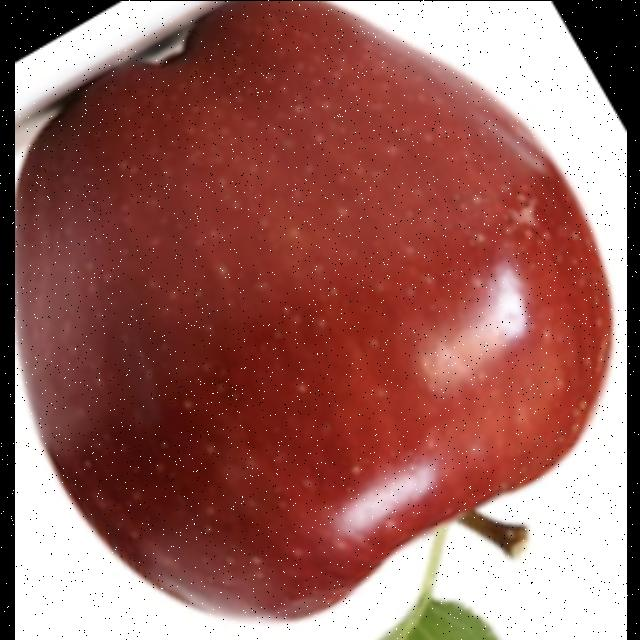Apel Segar: (14, 0, 622, 630)
